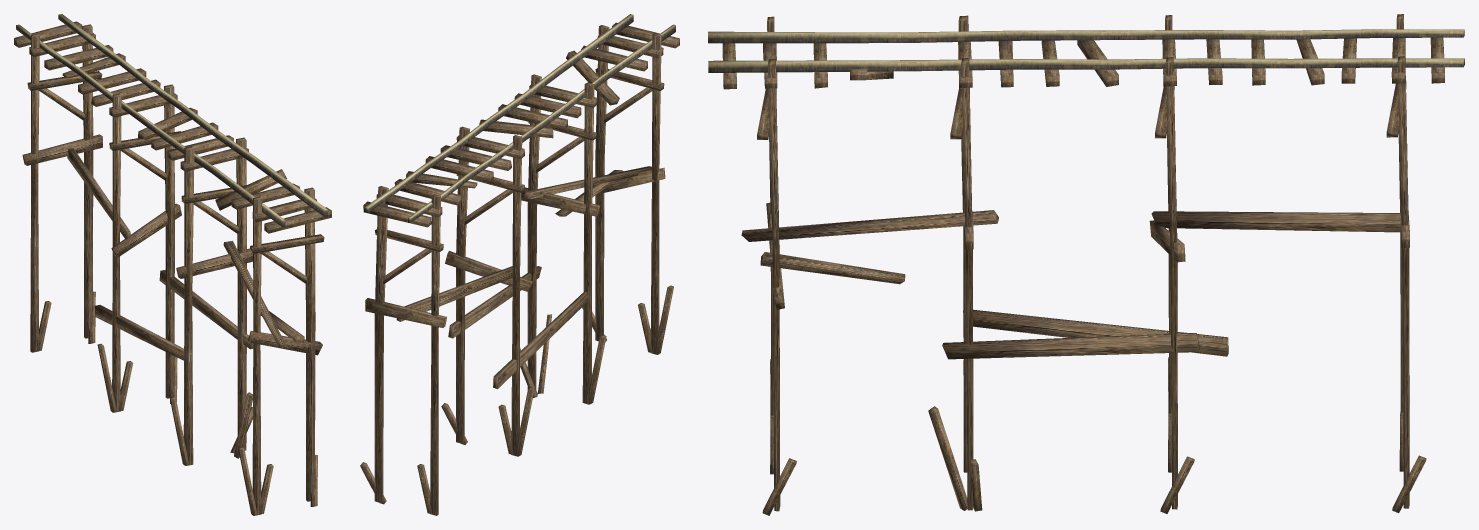
File: S_Build_West077.FBX
The picture shows the model from 3 angles, left to right: view 1: azimuth 30°, elevation 25°; view 2: azimuth 150°, elevation 25°; view 3: azimuth 270°, elevation 25°; orthographic projection. The views are drawn at different scales.
Parts seen in each view (by area): view 1: S_Build_West077; view 2: S_Build_West077; view 3: S_Build_West077.
Boxes of the visible parts, x1,y1,x2,y2 form: S_Build_West077: (14, 14, 331, 515); S_Build_West077: (360, 14, 679, 515); S_Build_West077: (708, 14, 1464, 515).
Size of the model in its own units: 347 by 1800 by 1205.
